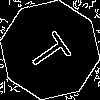T: (25, 25, 80, 76)
